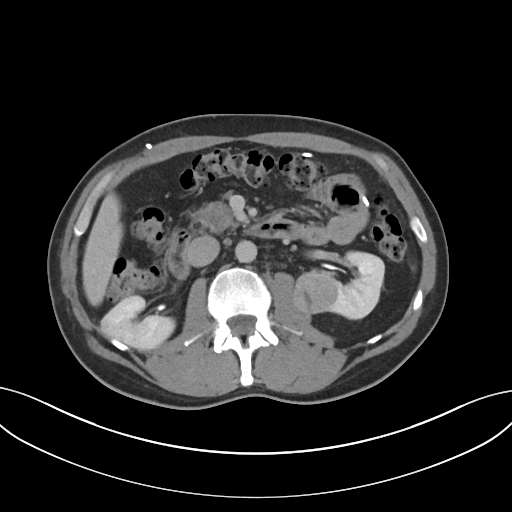Lesion: (289, 266, 342, 321)
